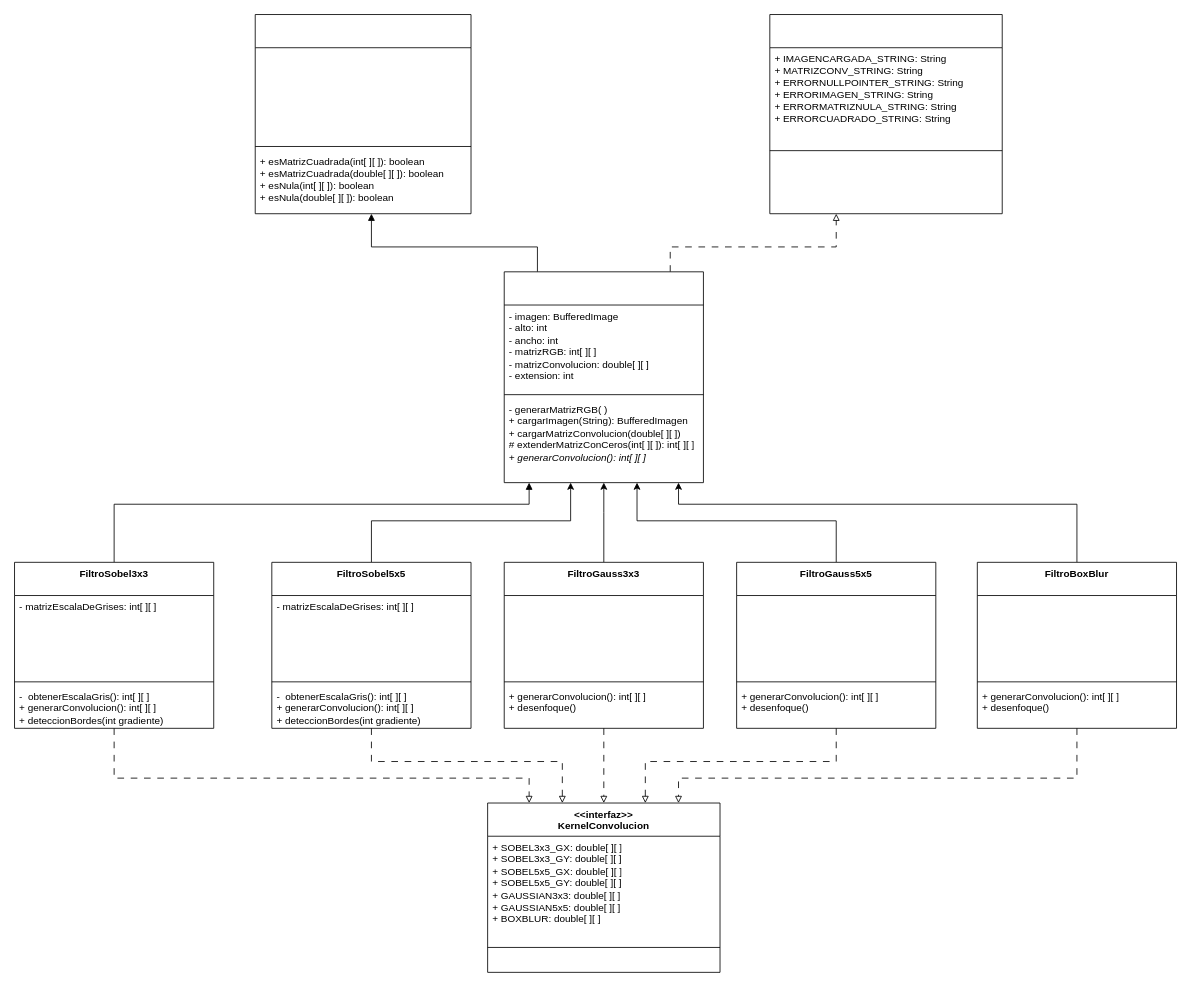
The diagram is 1191 pixels wide and 989 high, and some of its shapes have lost their labels. Here are the shapes that lost their labels. From the top down, the box of each, then its label:
(254, 14, 471, 214): <<abstracto>> Matriz
(769, 14, 1002, 214): <<interfaz>> Mensajes
(503, 271, 703, 483): <<abstracto>> ConvolucionImagen
